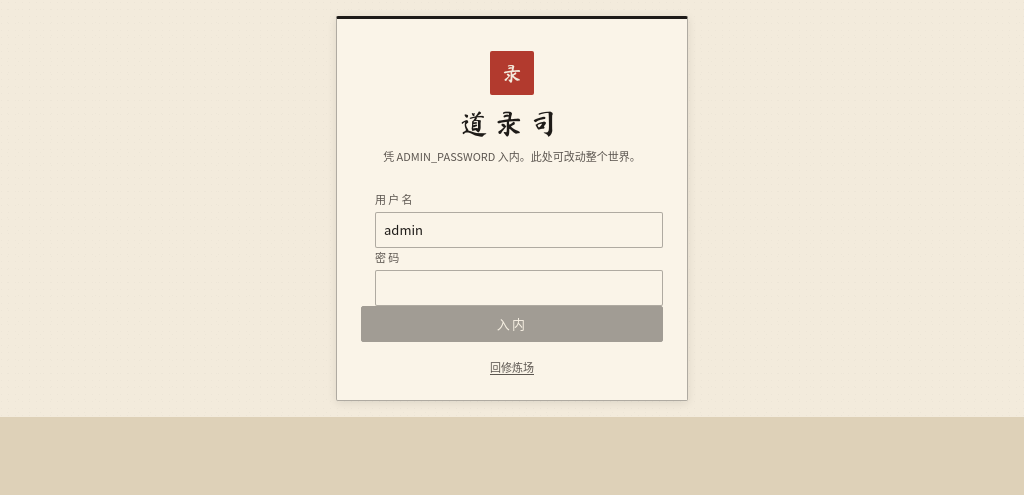
Test: admin panel › gates on the admin password and reports a wrong one in place
Check: the heading "道录司" is shown, box [460,109,564,137]
Step 1. Type "nope" into the password field labelled "密码" → (519, 288), box [375,270,663,306]
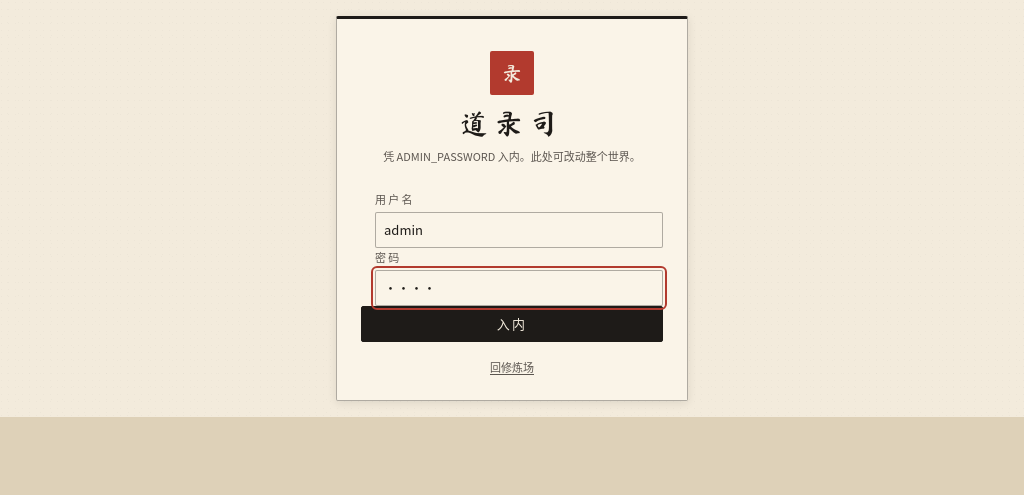
Step 2. Click the button "入内" → (512, 324), box [361,306,663,342]
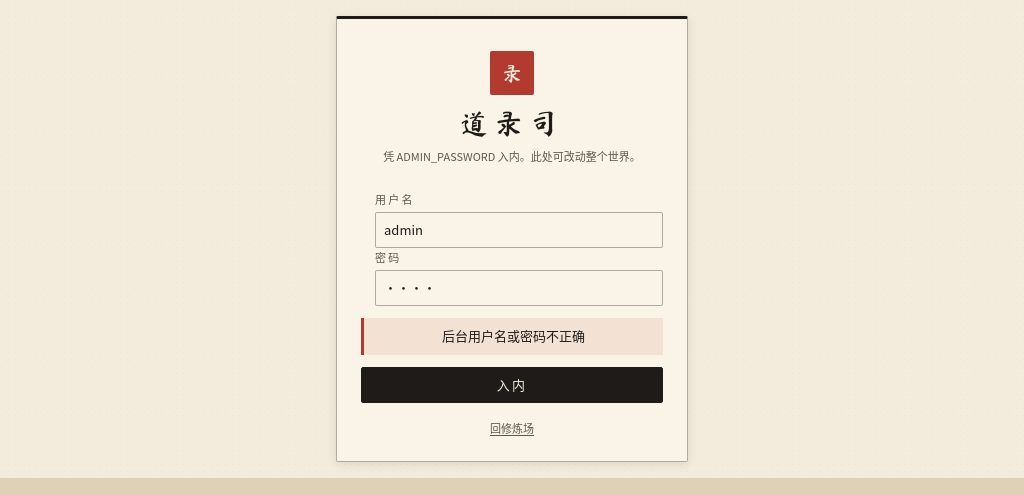
Check: the message reads "后台用户名或密码不正确", box [442,326,585,345]
